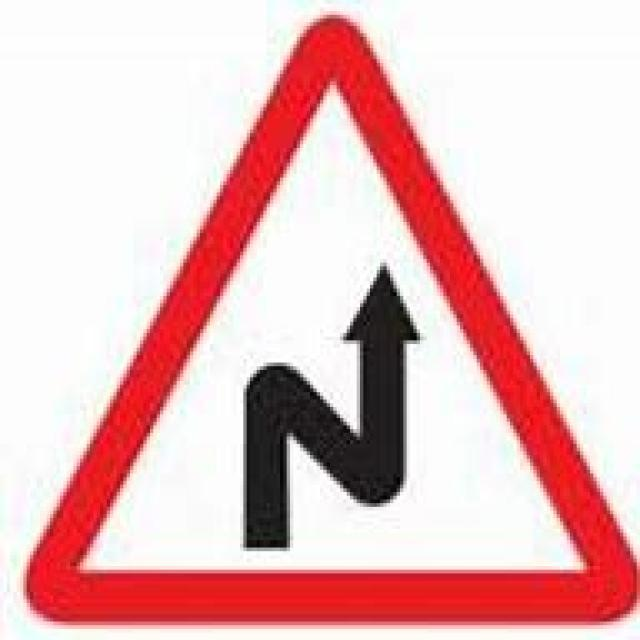right reverse bend: (26, 19, 624, 630)
